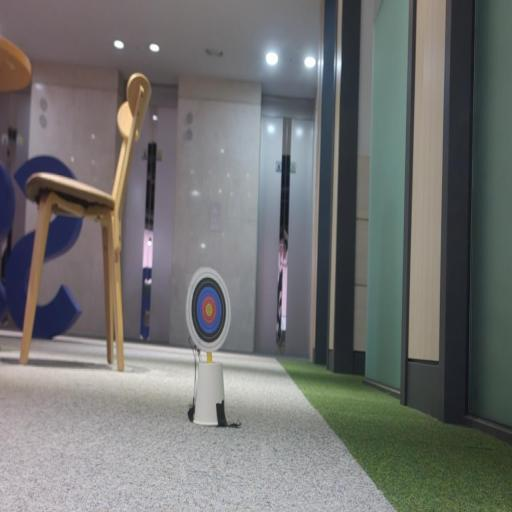target: (186, 267, 230, 353)
